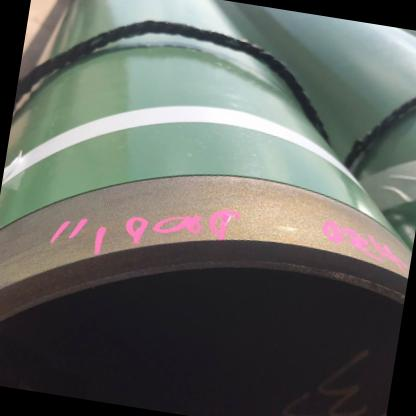Bevel: (270, 209, 312, 240)
